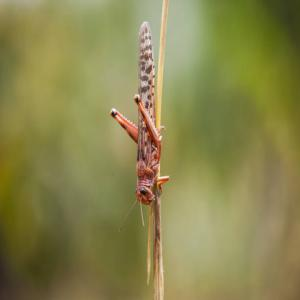locust: (115, 18, 181, 231)
